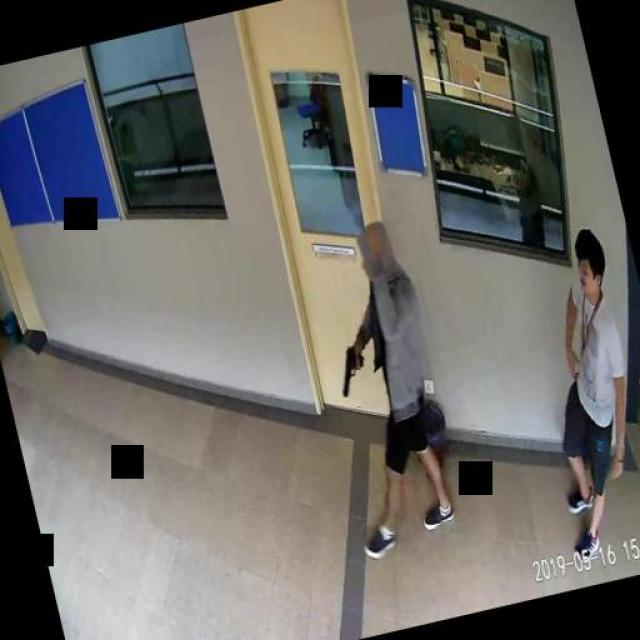gun: (332, 344, 370, 395)
